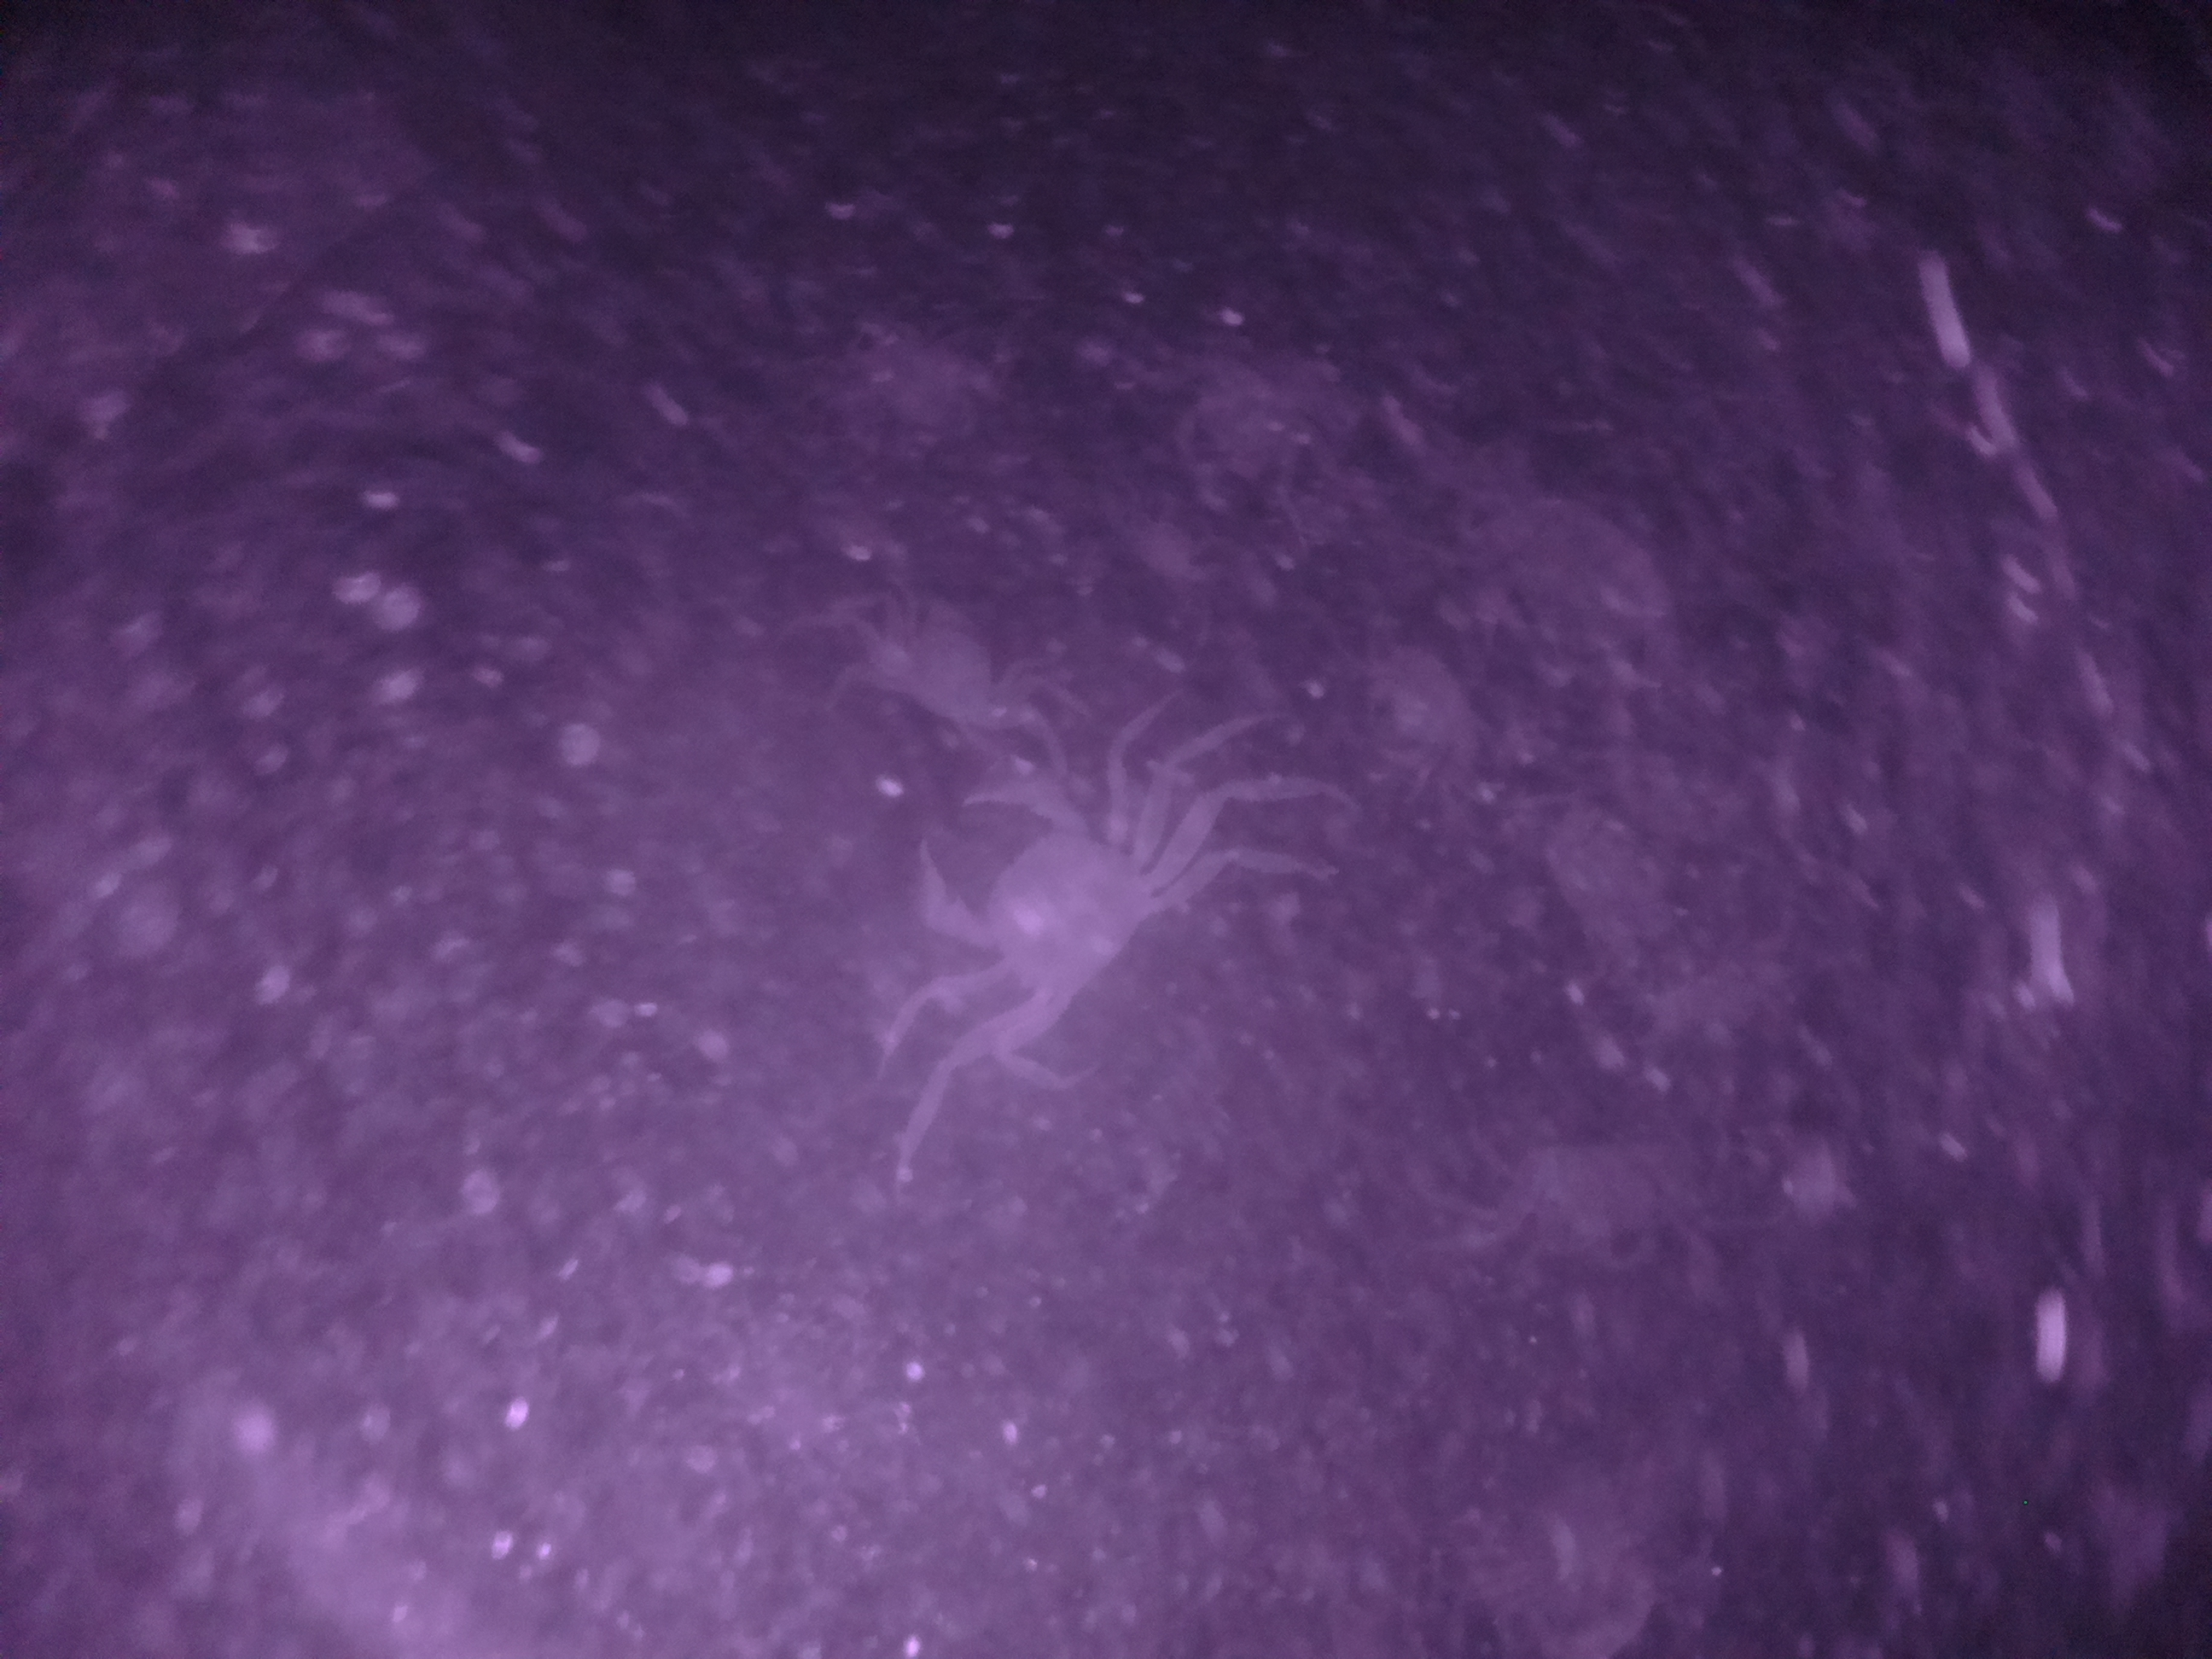Crab: (883, 749, 1169, 1019)
